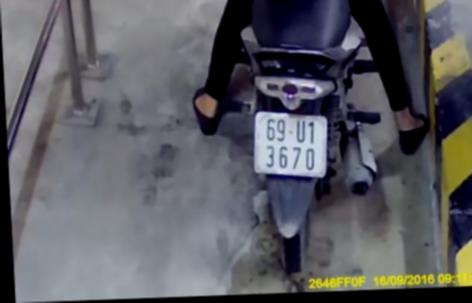License_Plate: (246, 106, 334, 187)
